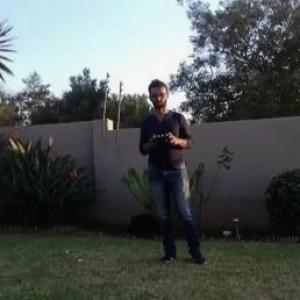follow: (135, 74, 215, 266)
